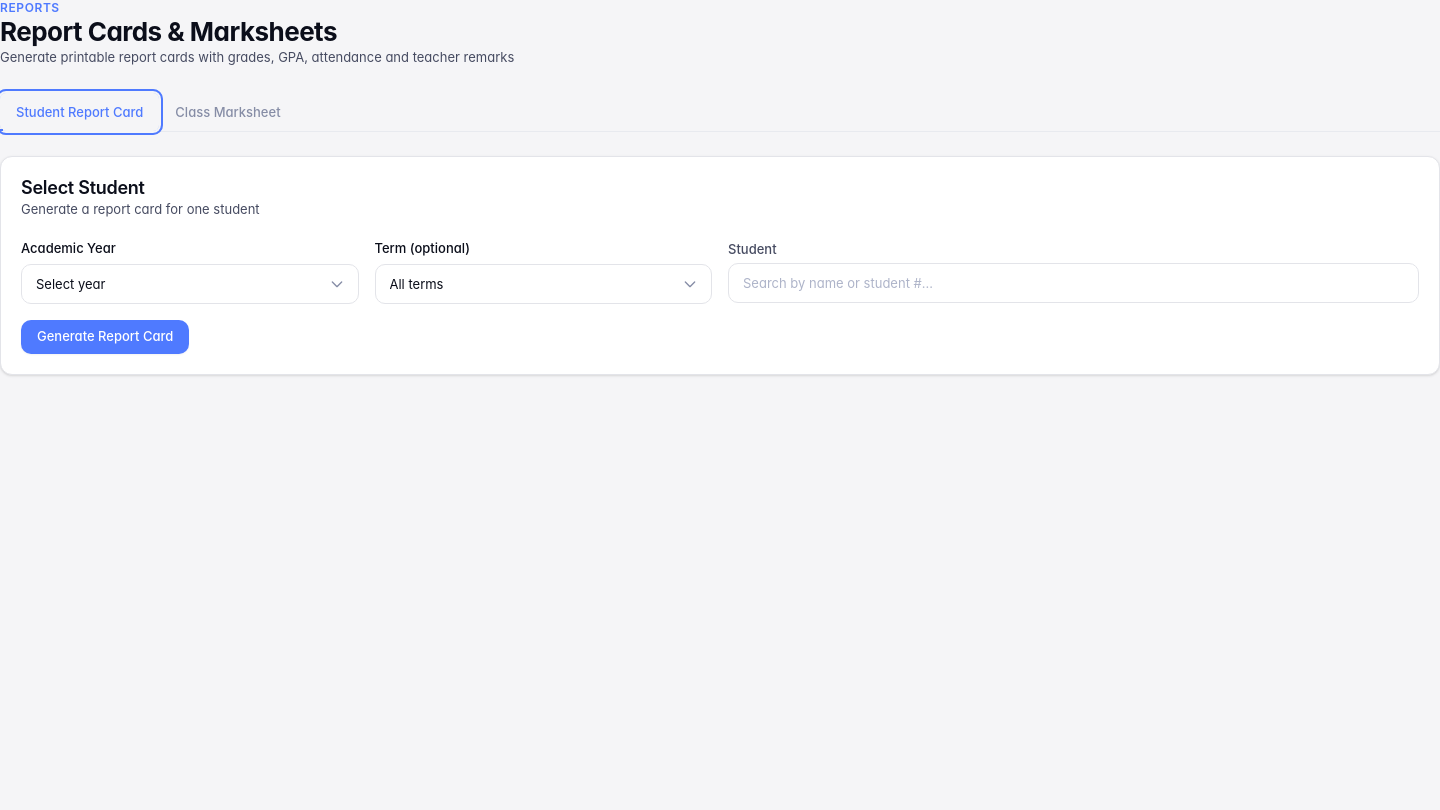
Report Cards page › generates a student report card with grades, GPA, attendance and remarks
Select "2026-27" in the dropdown labelled "Academic Year". click: (190, 284)
box: [21,264,358,304]
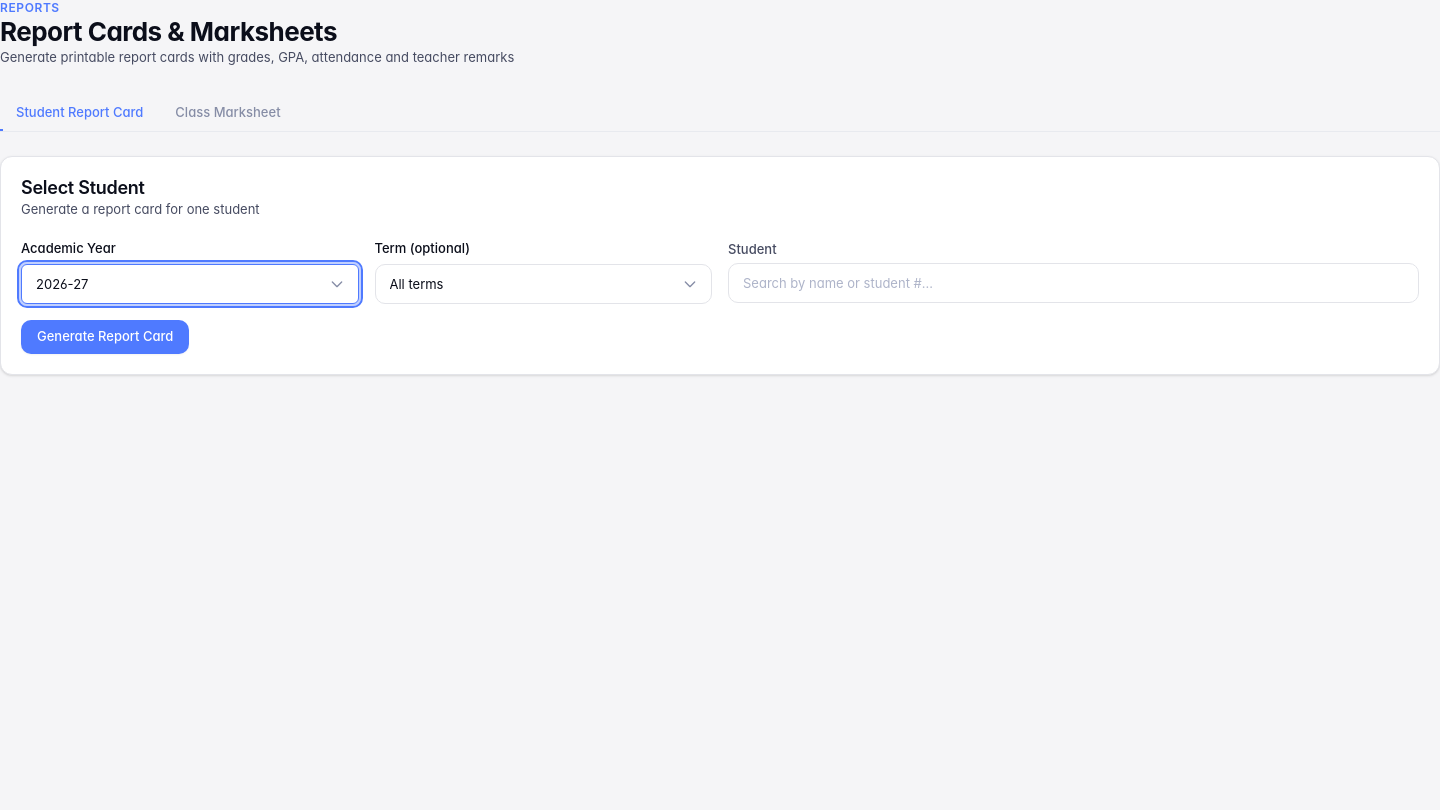
Select "Term 1" in the dropdown labelled "Term (optional)". click: (543, 284)
box: [374,264,712,304]
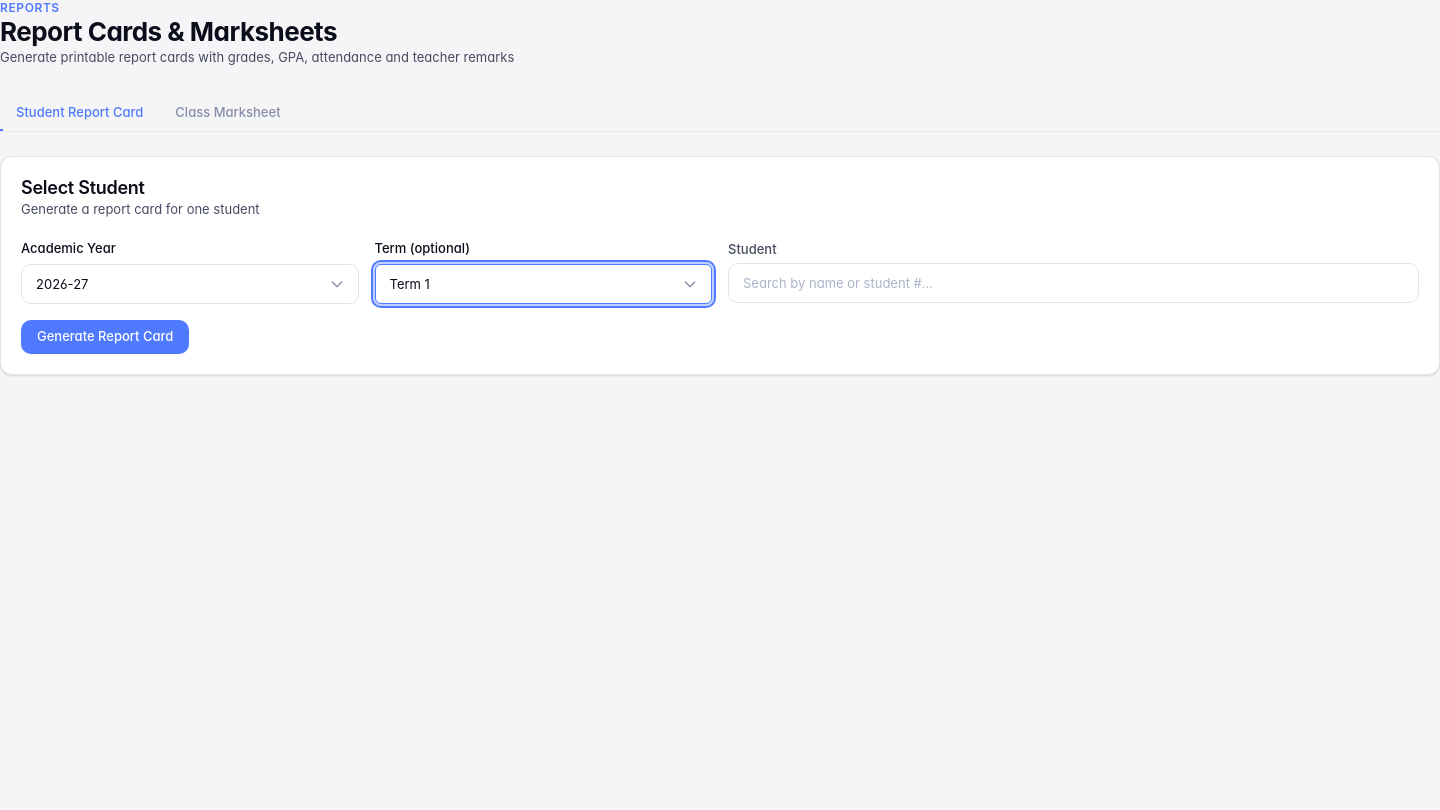
Type "Rahul" into the field with placeholder "Search by name or student #...". click: (1074, 283)
box: [728,263,1419,303]
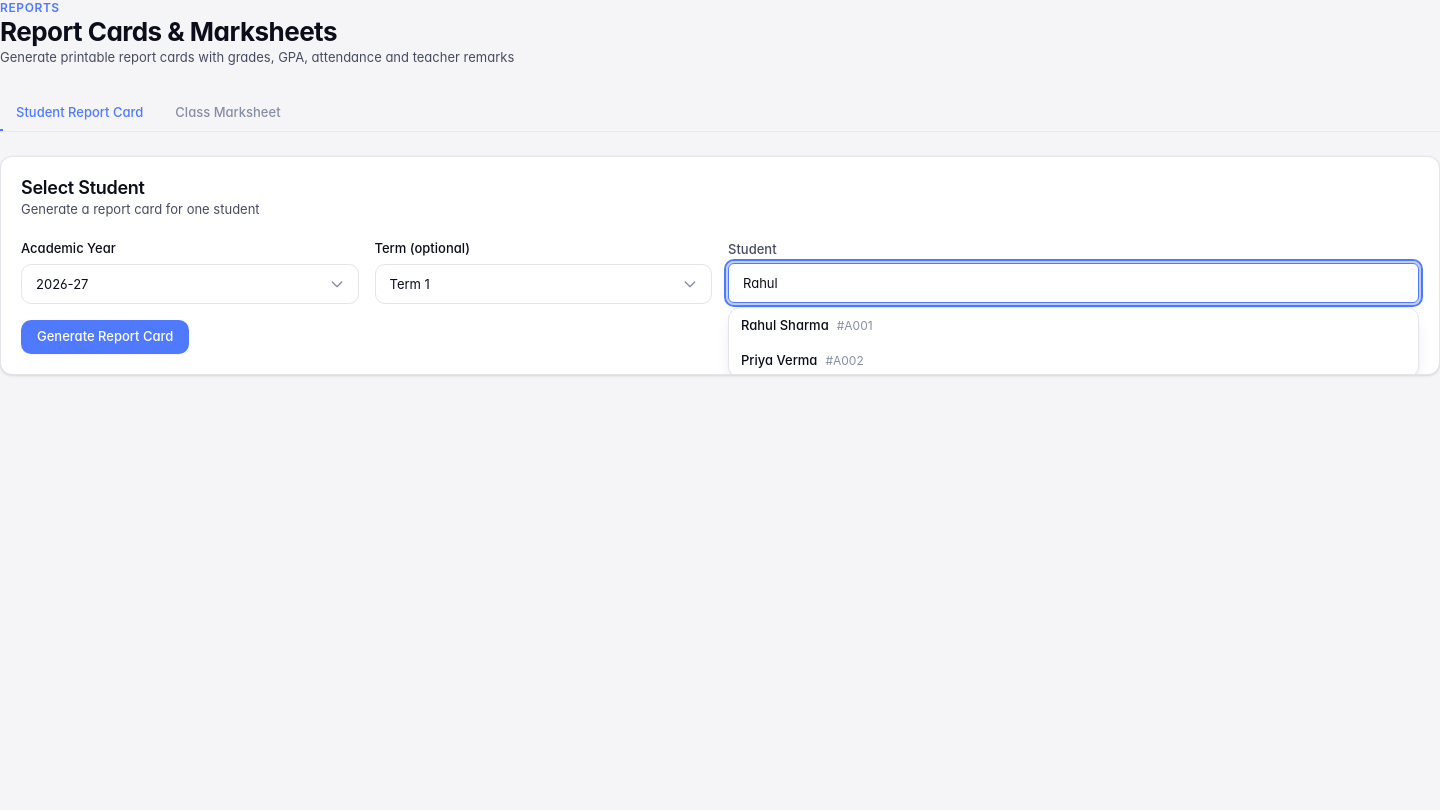
Expected: the text "Rahul Sharma" is shown
Click the text "Rahul Sharma". click: (785, 325)
box: [741,317,829,333]
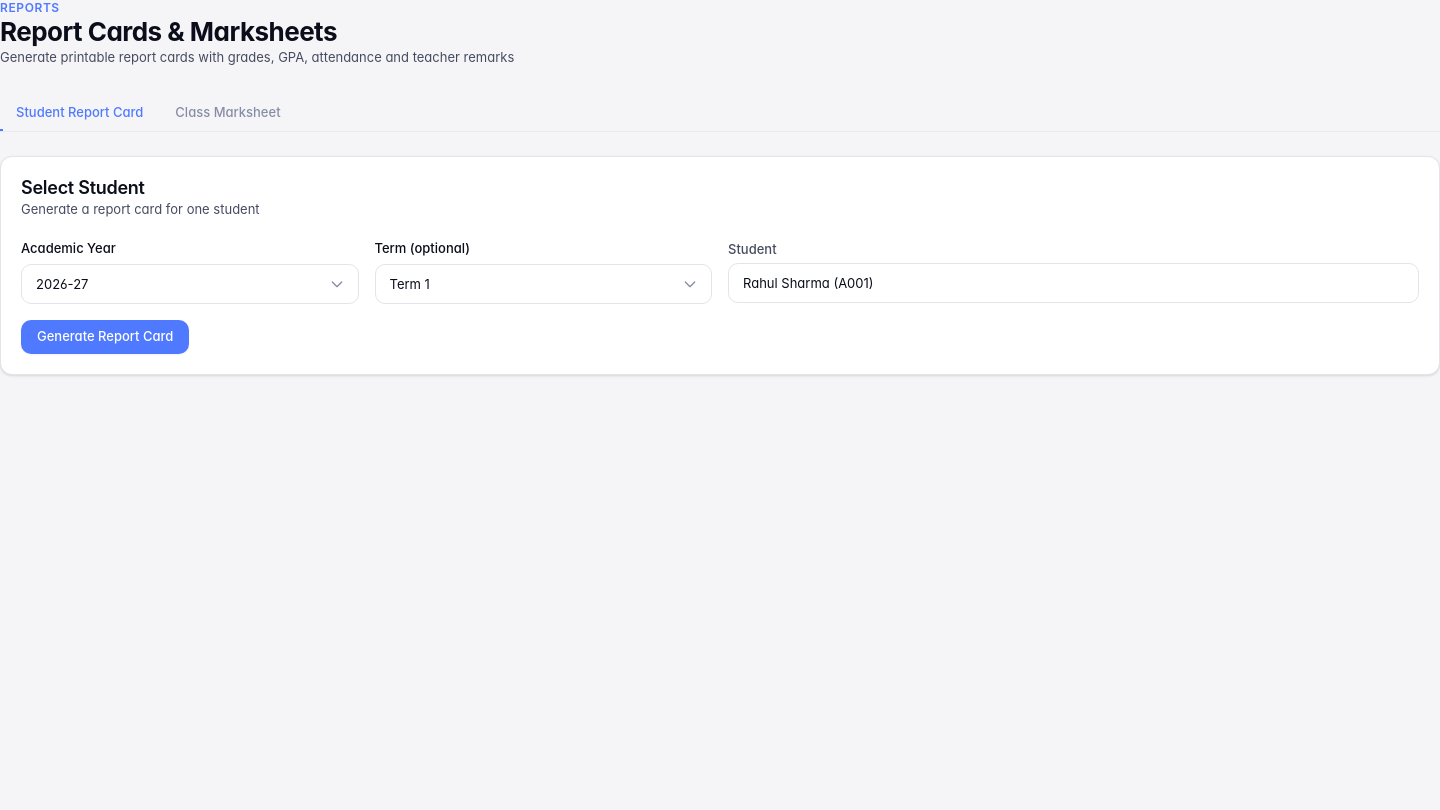
Click the button "Generate Report Card". click: (105, 337)
box: [21,320,189,354]
(page scrolled)
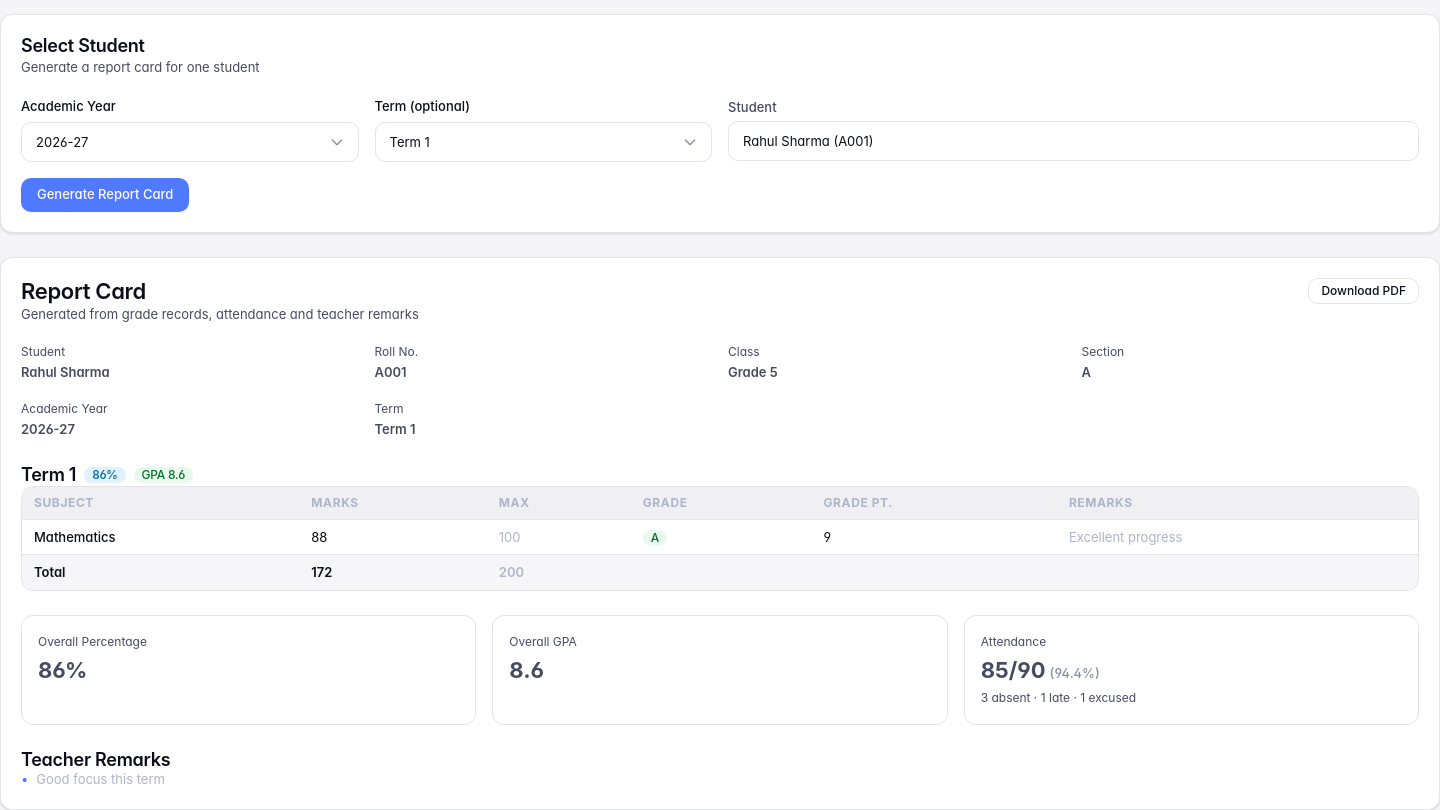
Expected: the text "Rahul Sharma" is shown, [21,364,110,380]
Expected: the text "88" is shown, [299,519,487,555]
Expected: the text "8.6" is shown, [509,657,544,683]
